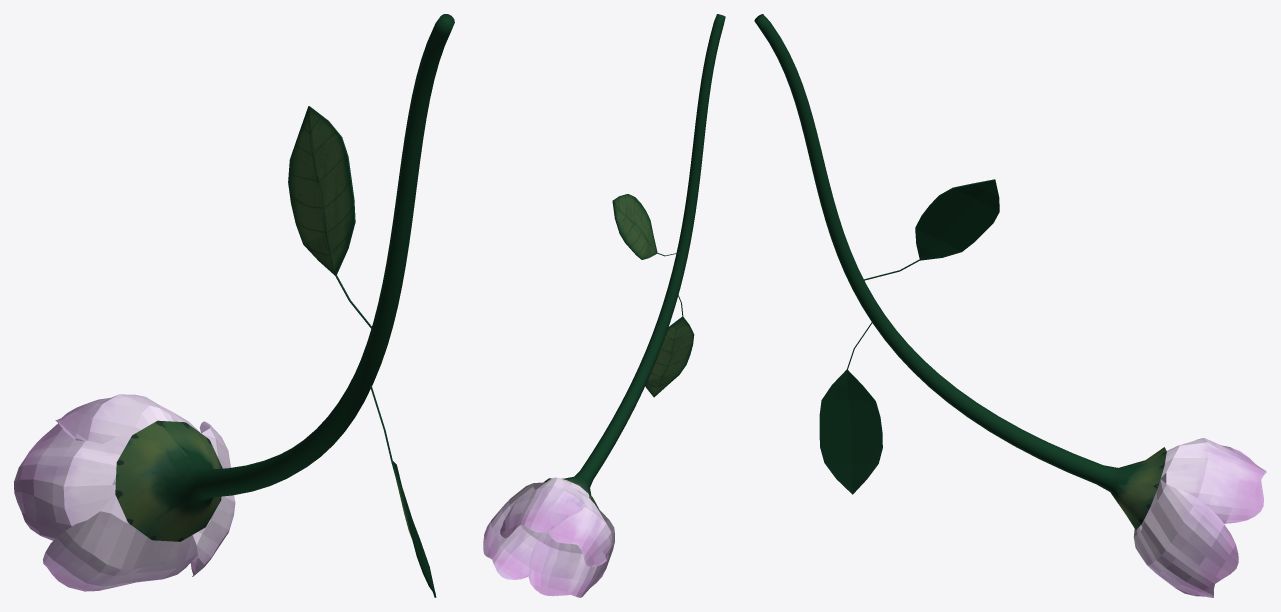
Rendered from rose.glb.
3 views of the same model, side by side, from view 1: azimuth 30°, elevation 25°; view 2: azimuth 150°, elevation 25°; view 3: azimuth 270°, elevation 25° (orthographic). The views are drawn at different scales.
Visible parts, largest first — view 1: stem, petal3, petal2, rose leaf, petal4, petal1, rose leaf.001; view 2: stem, petal2, petal4, petal1, petal3, rose leaf.001, rose leaf; view 3: stem, petal1, petal4, rose leaf.001, rose leaf.
Part boxes in pixels (left/top/right/bottom): stem: left=115, top=14, right=454, bottom=541; petal3: left=14, top=423, right=140, bottom=540; petal2: left=43, top=493, right=197, bottom=591; rose leaf: left=288, top=106, right=371, bottom=328; petal4: left=55, top=394, right=199, bottom=443; petal1: left=190, top=421, right=235, bottom=576; rose leaf.001: left=370, top=385, right=436, bottom=597; stem: left=543, top=14, right=725, bottom=509; petal2: left=528, top=495, right=614, bottom=597; petal4: left=500, top=477, right=584, bottom=538; petal1: left=483, top=482, right=545, bottom=579; petal3: left=548, top=482, right=611, bottom=566; rose leaf.001: left=645, top=295, right=694, bottom=397; rose leaf: left=612, top=194, right=679, bottom=259; stem: left=754, top=14, right=1166, bottom=529; petal1: left=1133, top=479, right=1238, bottom=597; petal4: left=1161, top=438, right=1266, bottom=523; rose leaf.001: left=819, top=322, right=882, bottom=494; rose leaf: left=863, top=179, right=999, bottom=280.
Size of the model in its own units: 0.2448 by 0.9661 by 0.7871.
4 materials, 4 textured.
